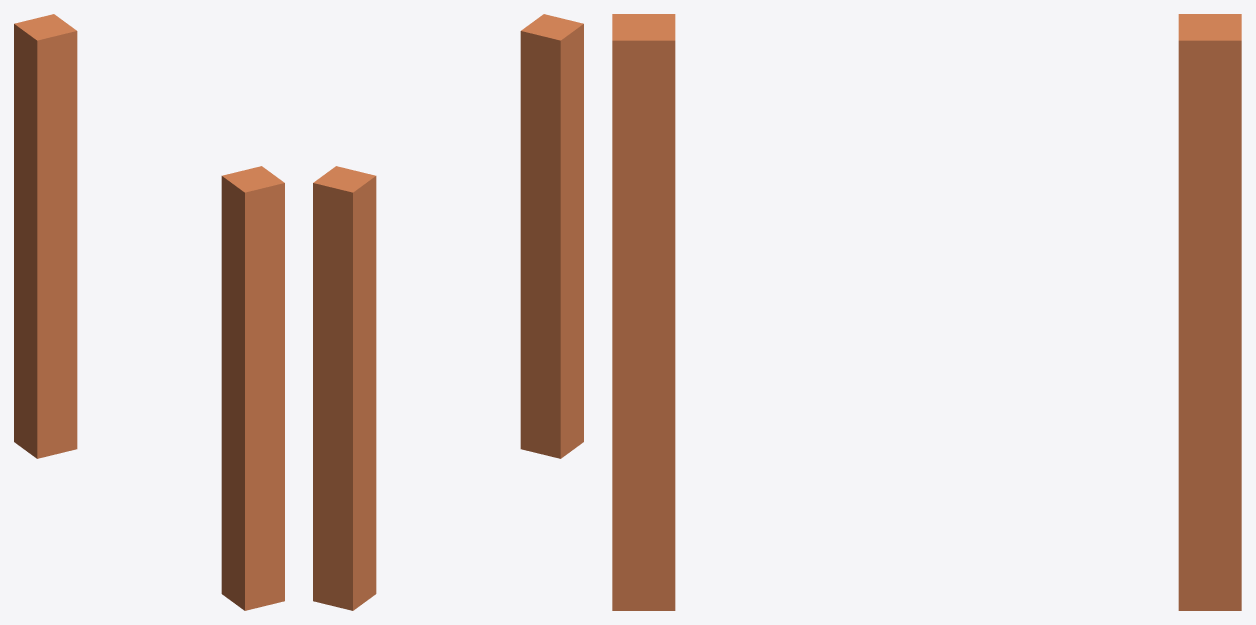
Rendered from poles.fbx.
3 renders of one model, left to right at view 1: azimuth 30°, elevation 25°; view 2: azimuth 150°, elevation 25°; view 3: azimuth 270°, elevation 25°, orthographic. The views are drawn at different scales.
Parts seen in each view (by area): view 1: poles; view 2: poles; view 3: poles.
Part boxes in pixels (x1,y1,x2,y2): poles: (14, 14, 284, 610); poles: (313, 14, 583, 610); poles: (612, 14, 1241, 610).
Bounding box in the file's own units: 1 × 10 × 10.
